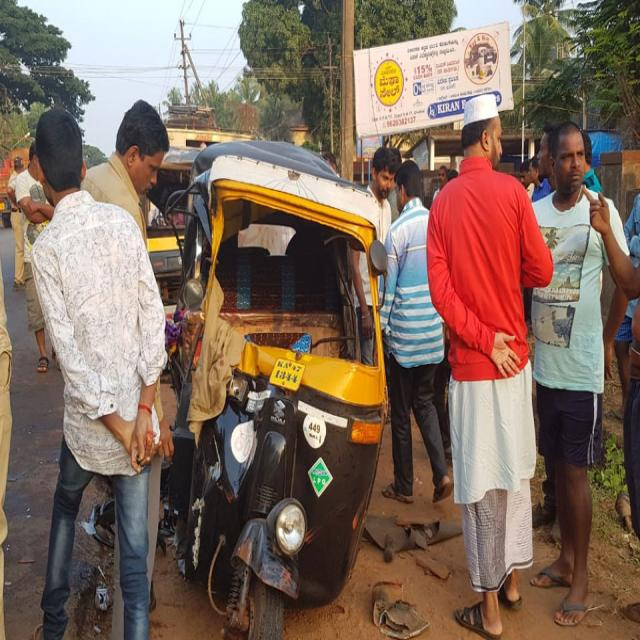accident: (166, 142, 388, 639)
truck: (141, 104, 254, 313), (0, 148, 29, 224)
